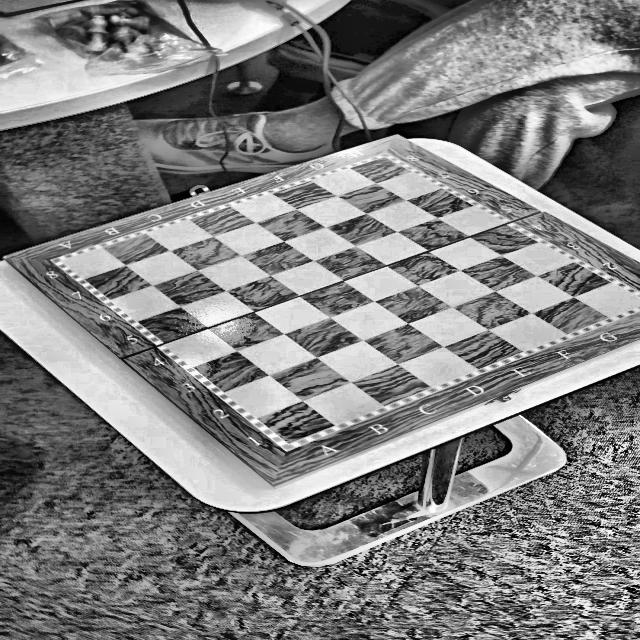chessboard: (4, 134, 639, 486)
